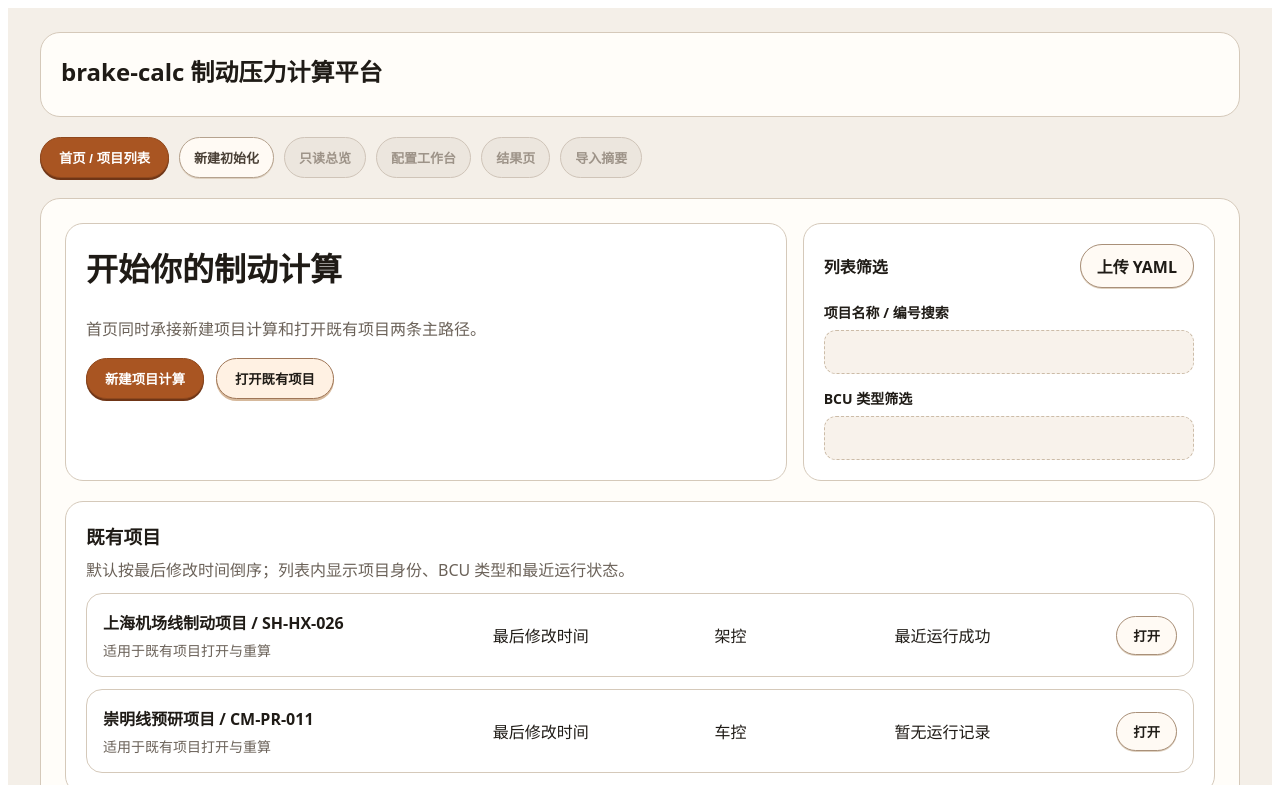
Test: App shell › renders the parking brake supplement slice as input only using contract fields
The width and height of the screenshot is (1280, 785).
Click the button "首页 / 项目列表".
click(105, 158)  # box [40, 137, 169, 178]
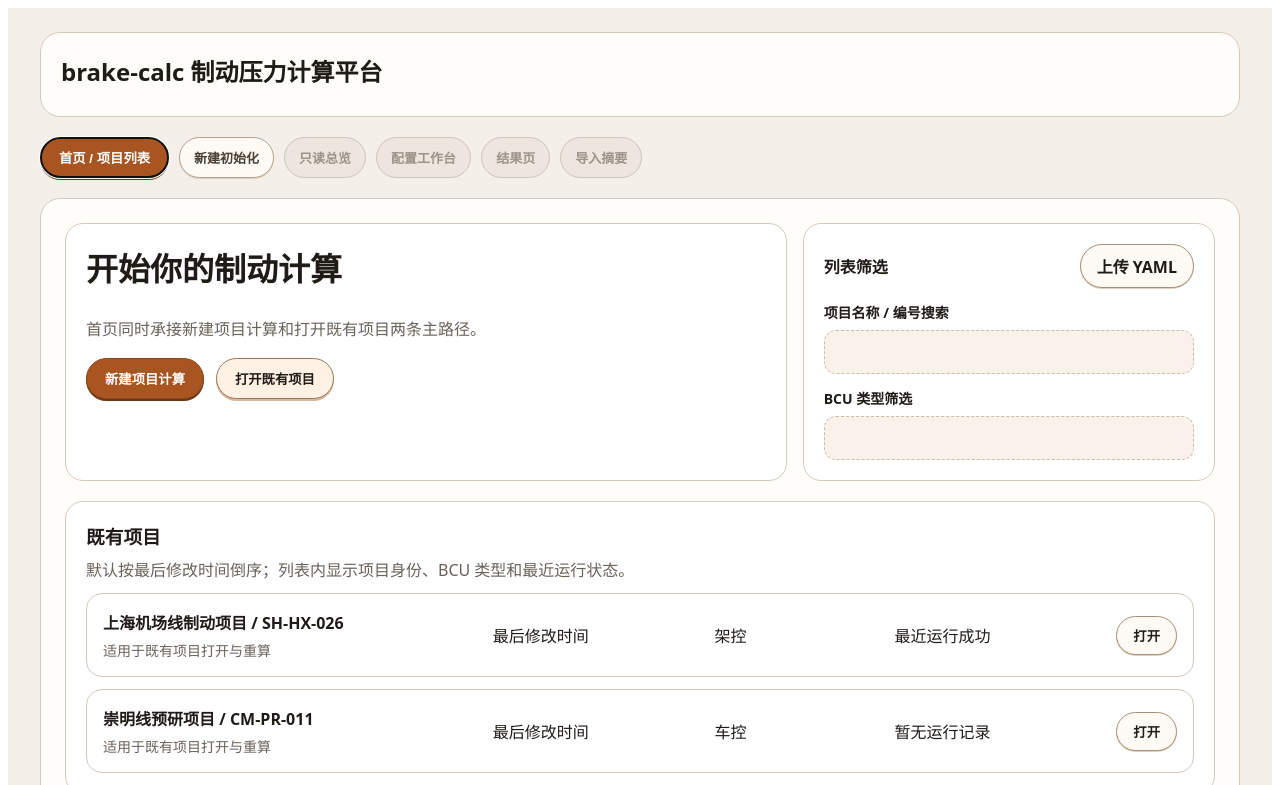
Click the button "打开既有项目".
click(275, 379)  # box [216, 358, 334, 399]
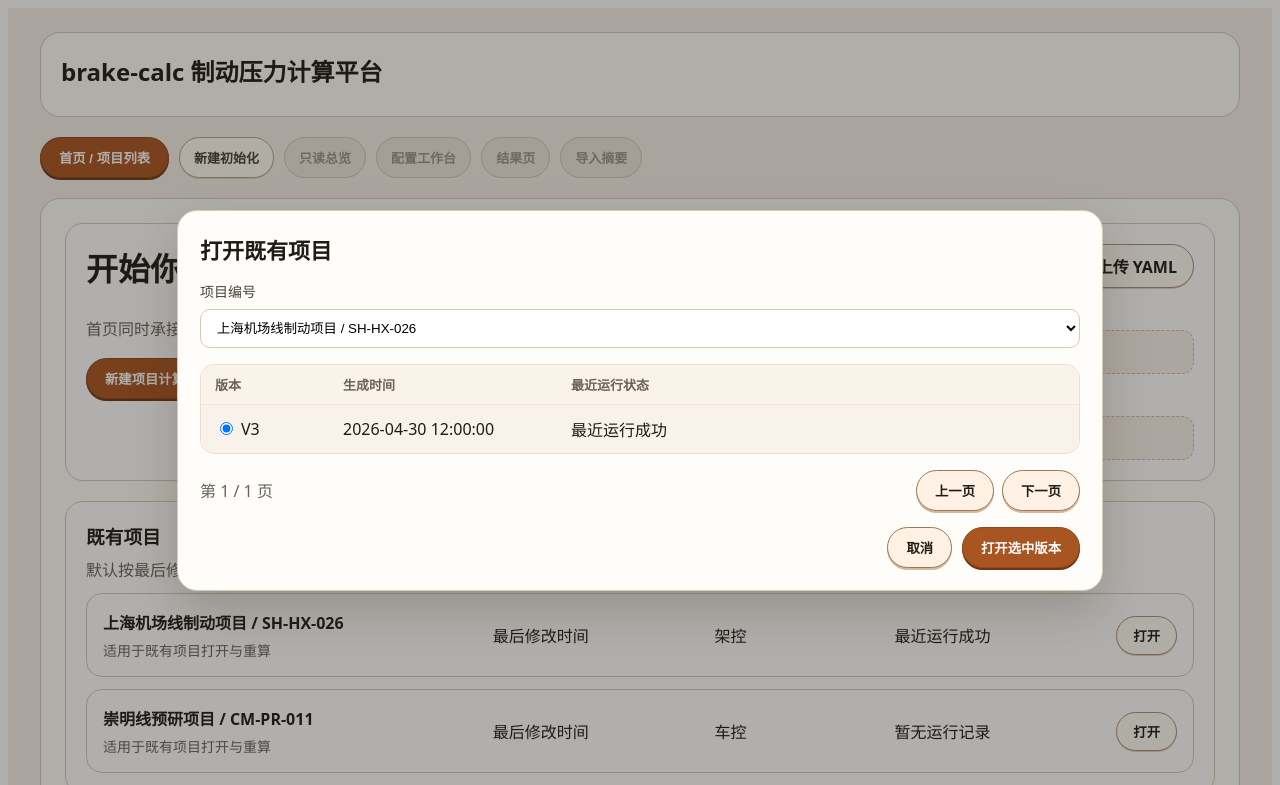
Click the button "打开选中版本".
click(1021, 547)  # box [962, 526, 1080, 568]
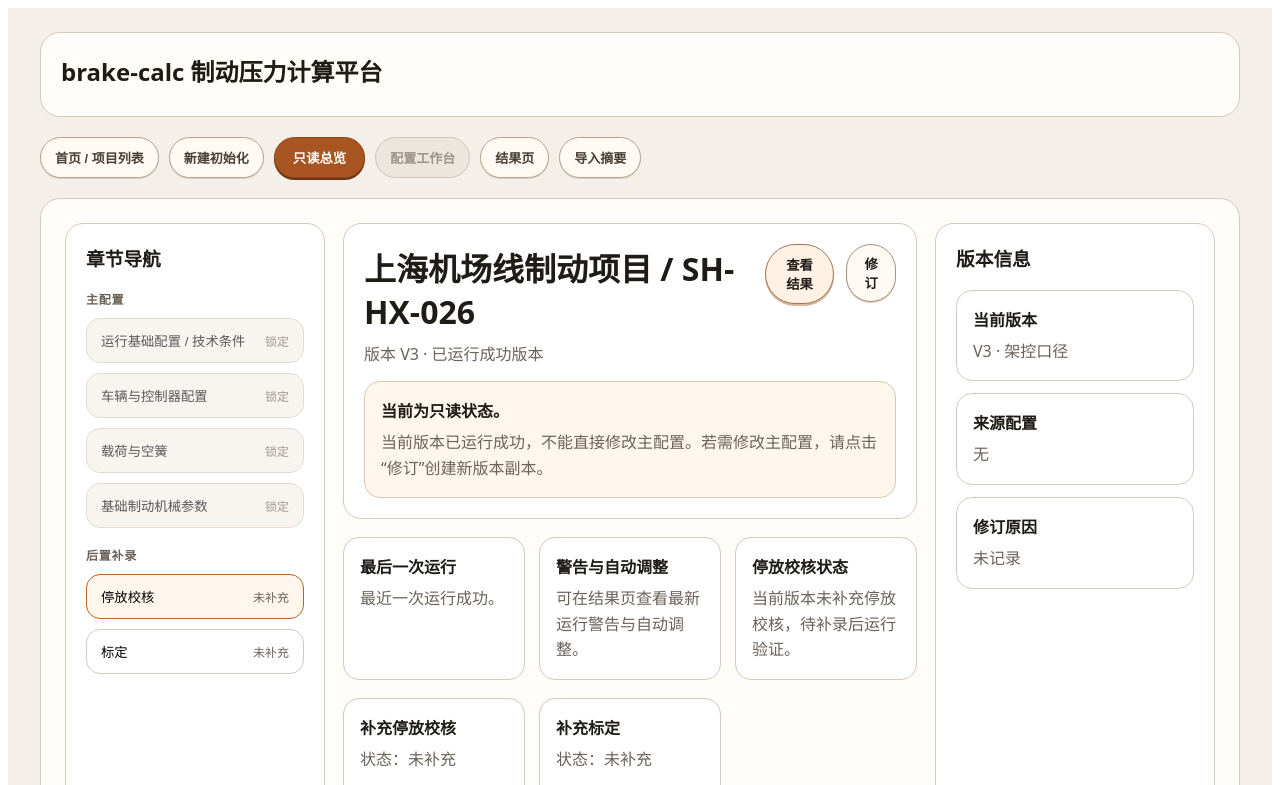
Now the button "修订" is shown
Click the button "修订".
click(871, 273)  # box [846, 244, 896, 302]
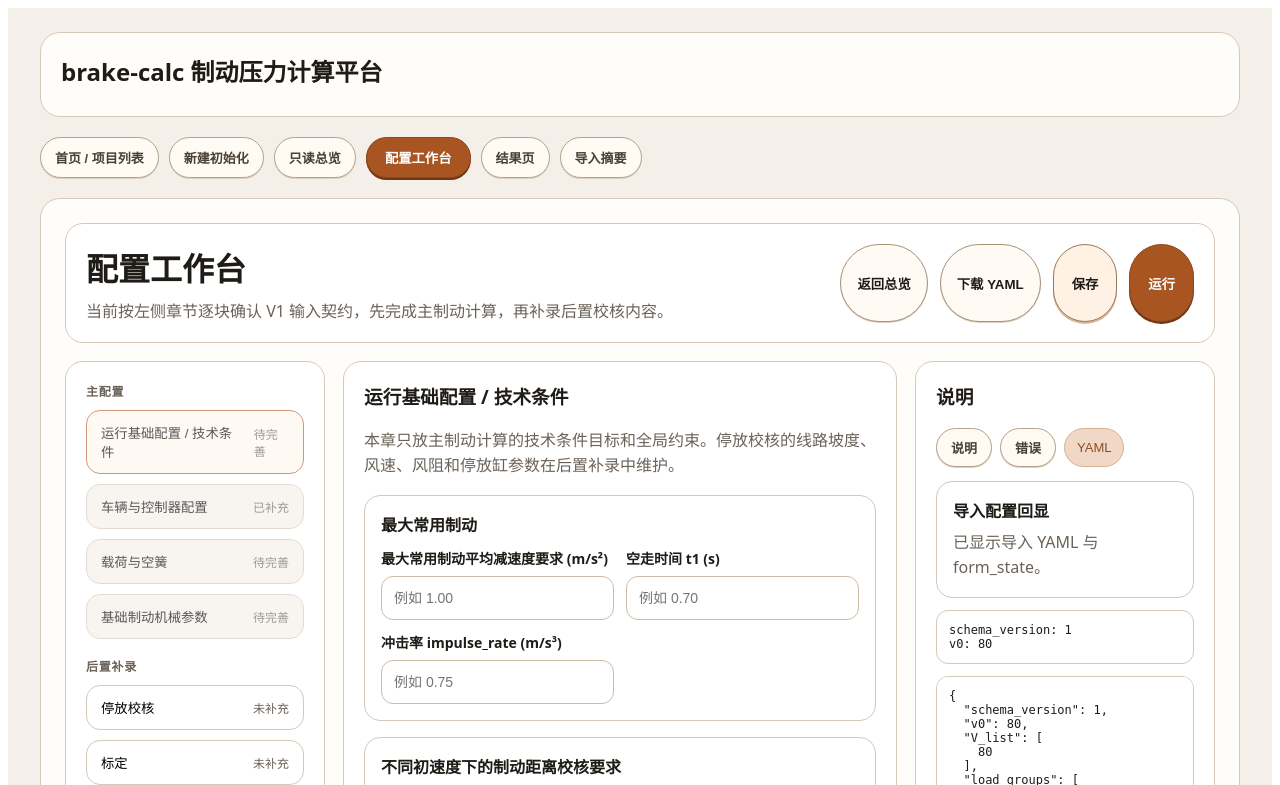
Click the button "停放校核 未补充".
click(195, 708)  # box [86, 685, 304, 730]
(page scrolled)
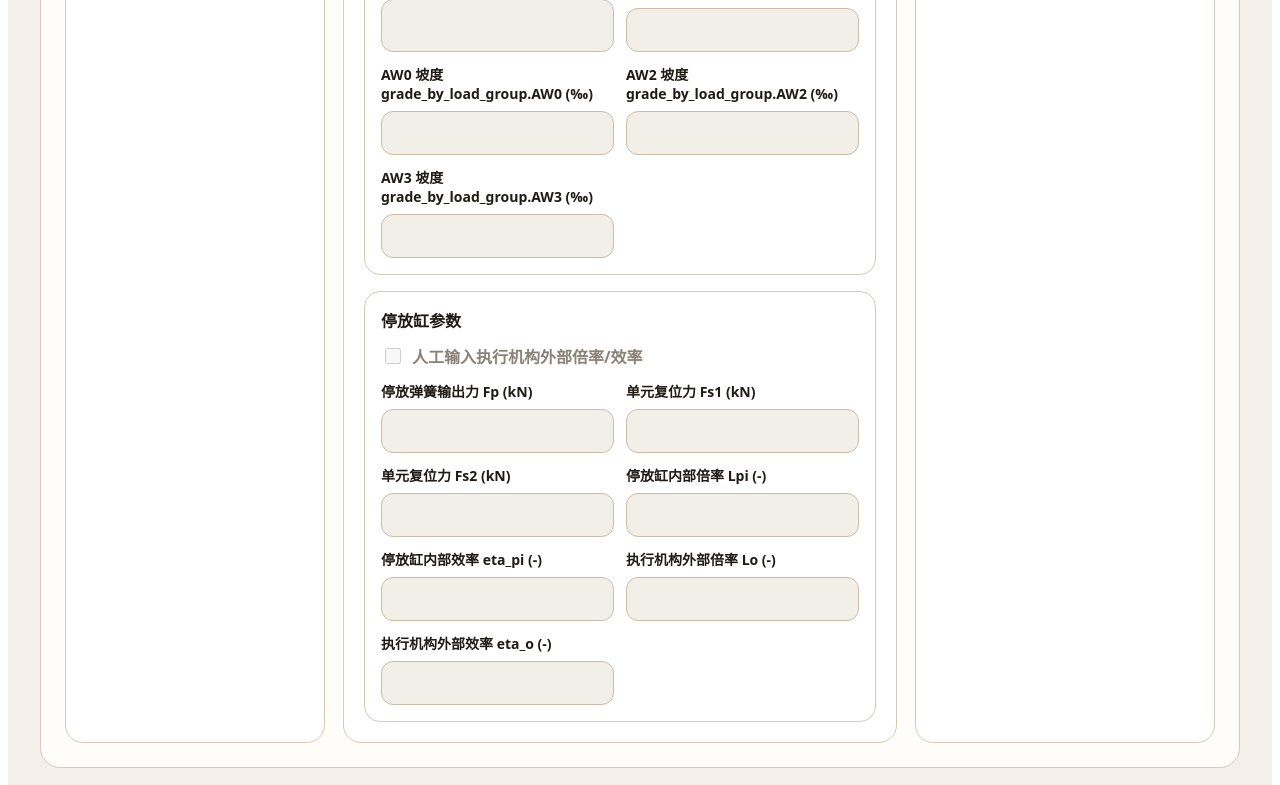
Now the heading "停放缸参数" is shown, box [381, 310, 461, 332]
Now the text "AW0 坡度 grade_by_load_group.AW0 (‰)" is shown, box [381, 64, 614, 103]
Now the text "AW3 坡度 grade_by_load_group.AW3 (‰)" is shown, box [381, 167, 614, 206]
